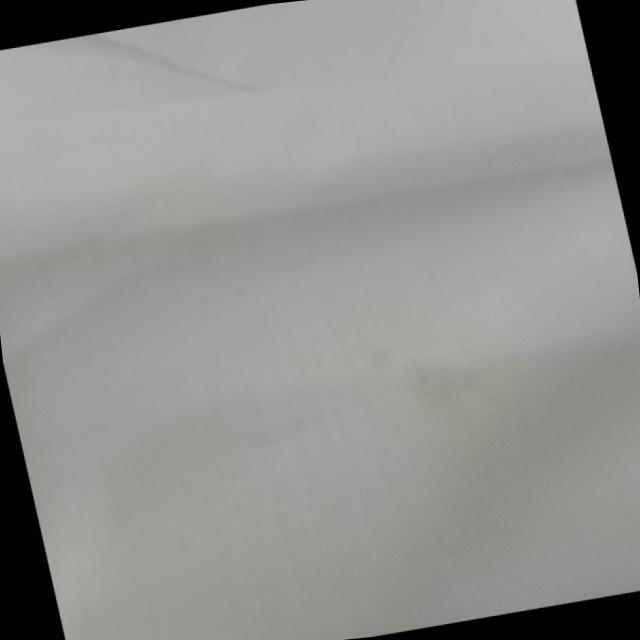stain: (334, 300, 520, 470)
